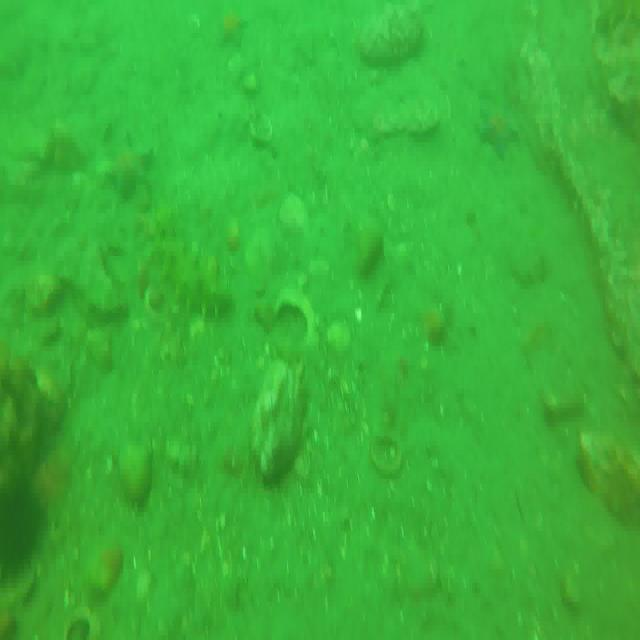holothurian: (147, 211, 232, 312)
starfish: (105, 134, 145, 198), (414, 294, 454, 349), (482, 104, 518, 157), (220, 8, 248, 45)
